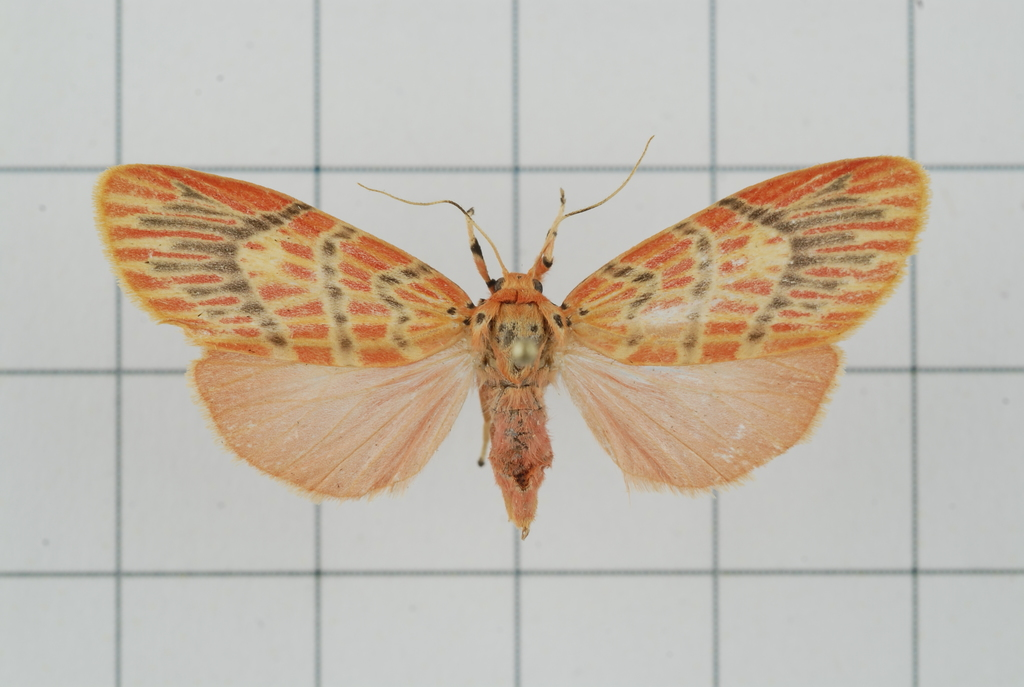Butterfly: (91, 148, 918, 545)
